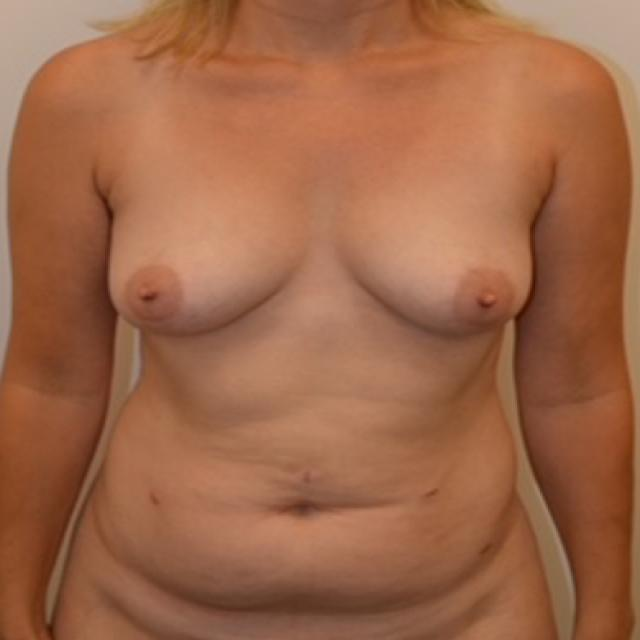Seno ileso: (100, 178, 320, 348), (330, 177, 542, 349)
